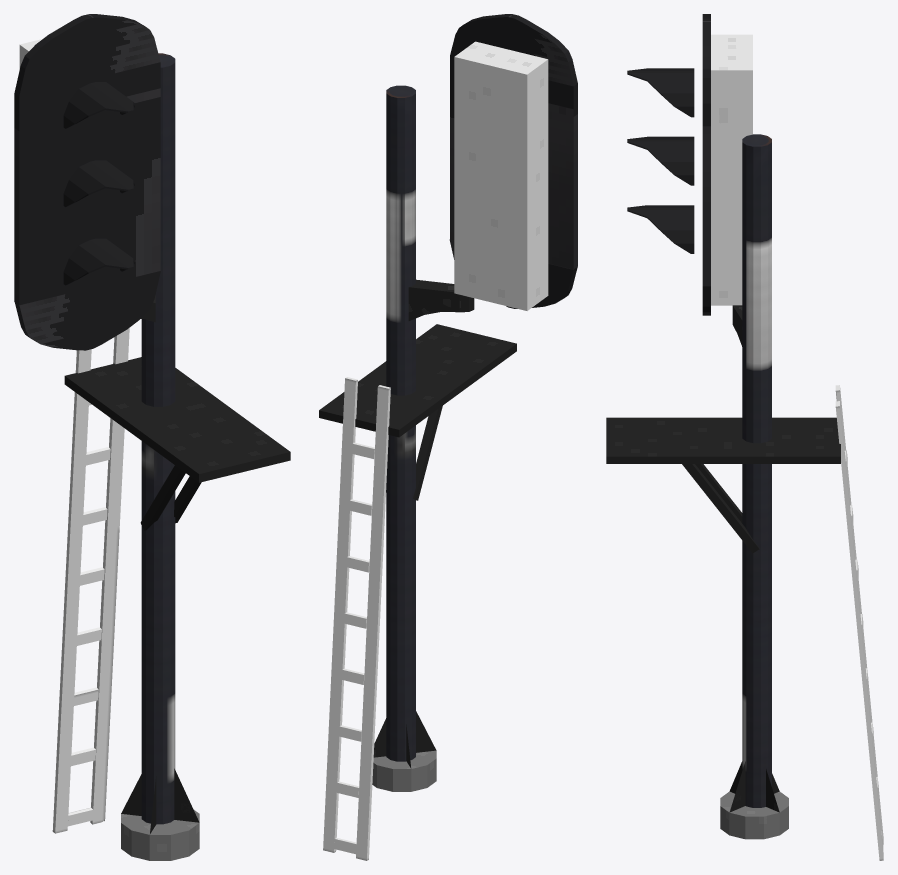
Rendered from dutch_main_default.obj.
3 renders of one model, left to right at view 1: azimuth 30°, elevation 25°; view 2: azimuth 150°, elevation 25°; view 3: azimuth 270°, elevation 25°, orthographic. The views are drawn at different scales.
Visible parts, largest first — view 1: mesh, cube, tube, base; view 2: cube, tube, mesh, base, HOLDER; view 3: cube, tube, mesh, base.
Part boxes in pixels (box(x1,y1,x2,y2)): mesh: box(14, 14, 160, 350); cube: box(19, 39, 290, 833); tube: box(141, 53, 175, 824); base: box(121, 768, 199, 860); cube: box(319, 41, 548, 860); tube: box(386, 85, 415, 761); mesh: box(449, 14, 577, 308); base: box(372, 711, 436, 791); HOLDER: box(408, 279, 474, 320); cube: box(606, 34, 883, 860); tube: box(742, 134, 771, 807); mesh: box(627, 14, 710, 315); base: box(720, 761, 788, 839).
Bounding box in the file's own units: 1.62 × 6.51 × 2.07.
7 materials, 7 textured.
